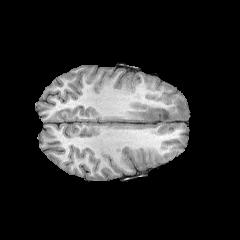glioma: (130, 98, 187, 119)
